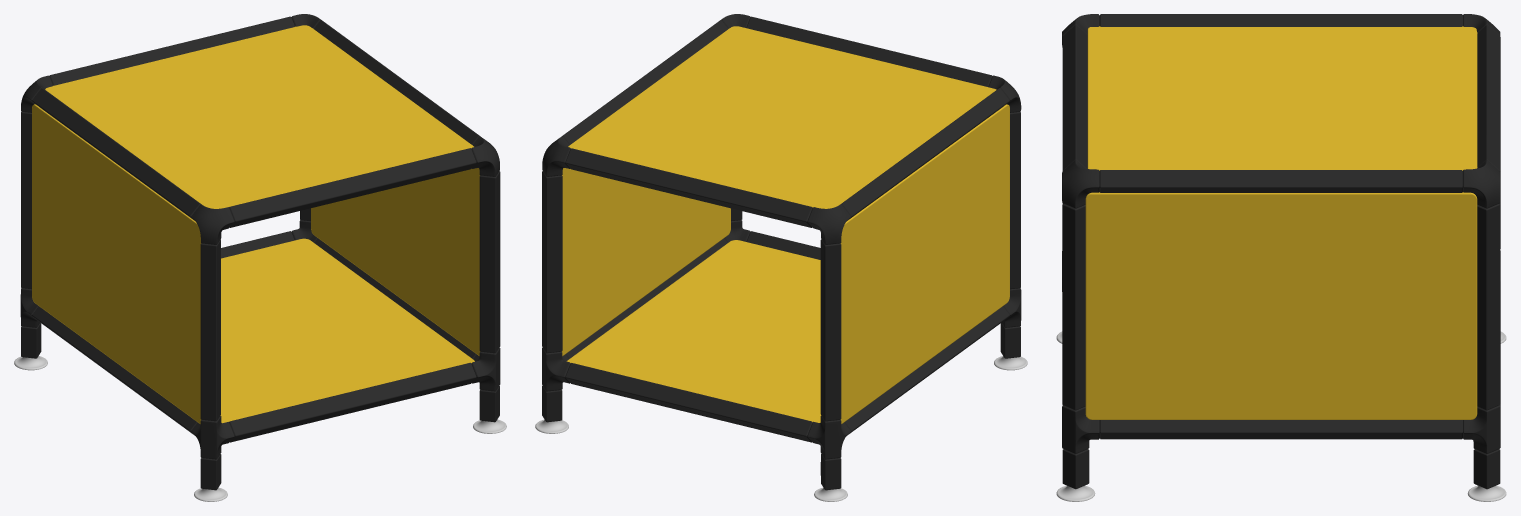
3 views of the same model, side by side, from view 1: azimuth 30°, elevation 25°; view 2: azimuth 150°, elevation 25°; view 3: azimuth 270°, elevation 25° (orthographic). The views are drawn at different scales.
Parts seen in each view (by area): view 1: 329x374x229; view 2: 329x374x229; view 3: 329x374x229.
Part boxes in pixels (x1,y1,x2,y2): 329x374x229: [14, 14, 506, 501]; 329x374x229: [535, 14, 1027, 501]; 329x374x229: [1056, 14, 1506, 501].
Bounding box in the file's own units: 0.4189 × 0.3683 × 0.4632.
